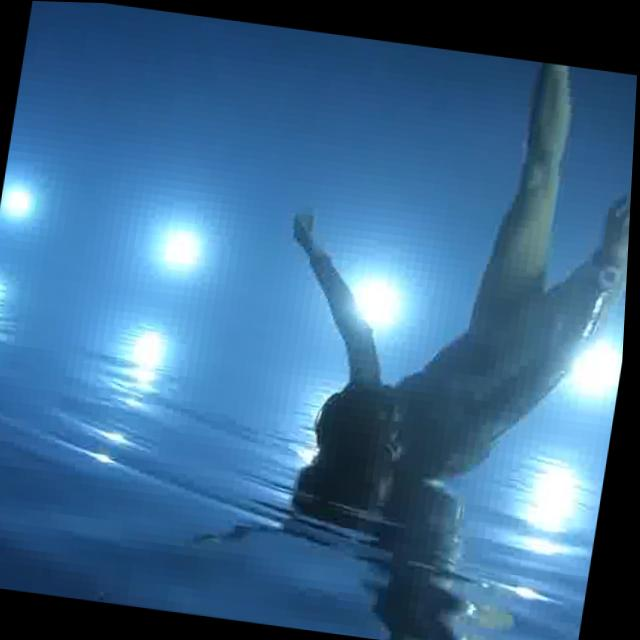human: (234, 26, 639, 547)
